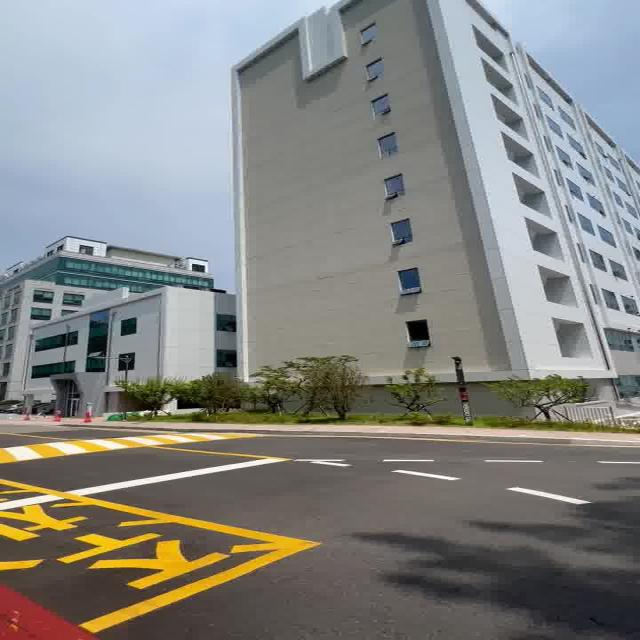building: (220, 6, 640, 375)
